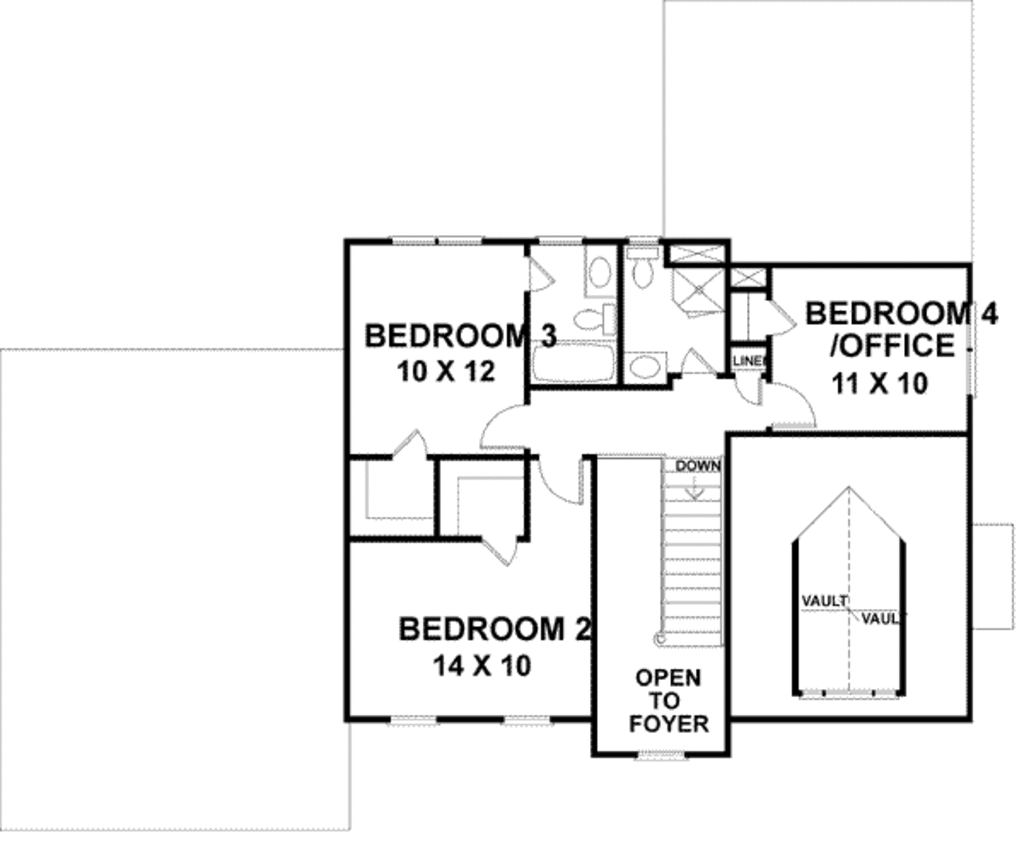door: (768, 378, 829, 445), (530, 452, 588, 510), (474, 393, 524, 452), (518, 250, 558, 295), (391, 425, 432, 464), (760, 295, 798, 337), (475, 534, 522, 567)
large_sink: (612, 241, 665, 290), (570, 300, 621, 337)
small_sink: (579, 239, 618, 306), (617, 348, 670, 388)
stairs: (655, 454, 730, 653)
tub: (524, 344, 617, 387)
windows: (793, 682, 897, 705), (386, 231, 487, 252), (500, 709, 554, 734), (383, 707, 438, 727), (628, 749, 688, 764)
